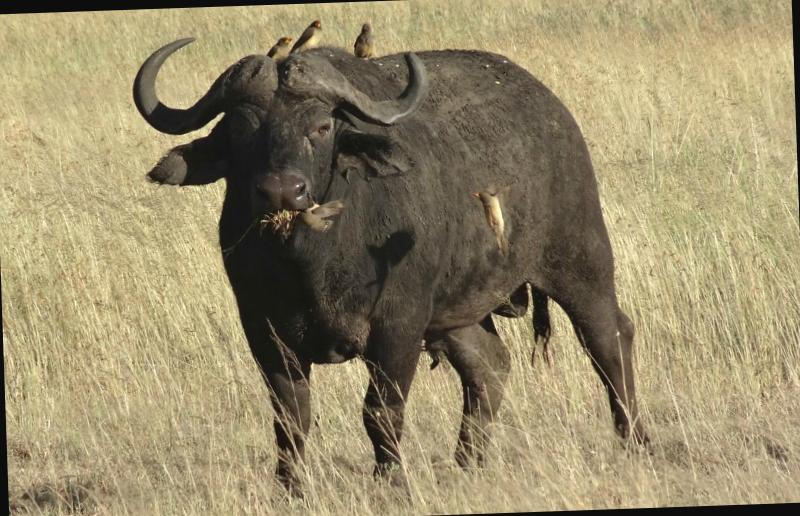Buffalo: (109, 37, 730, 480)
